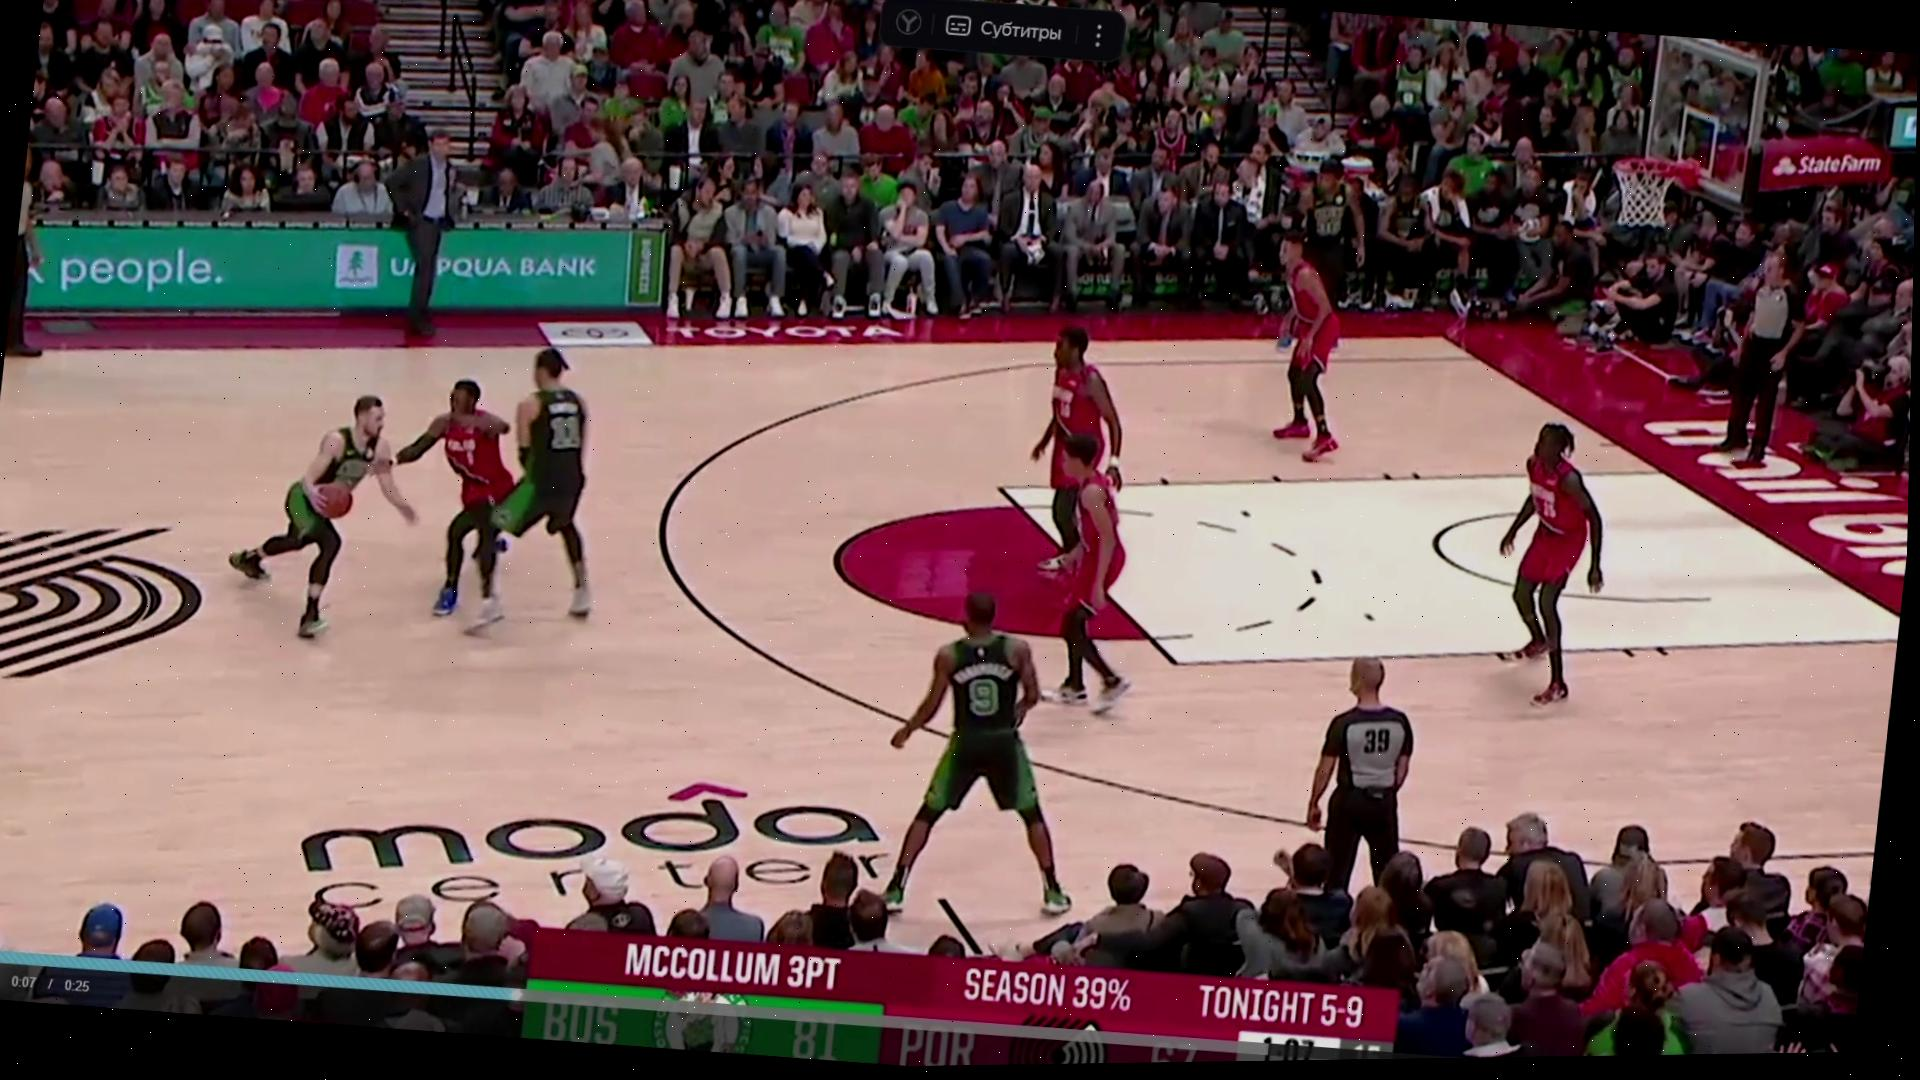no_foul: (378, 339, 663, 651)
